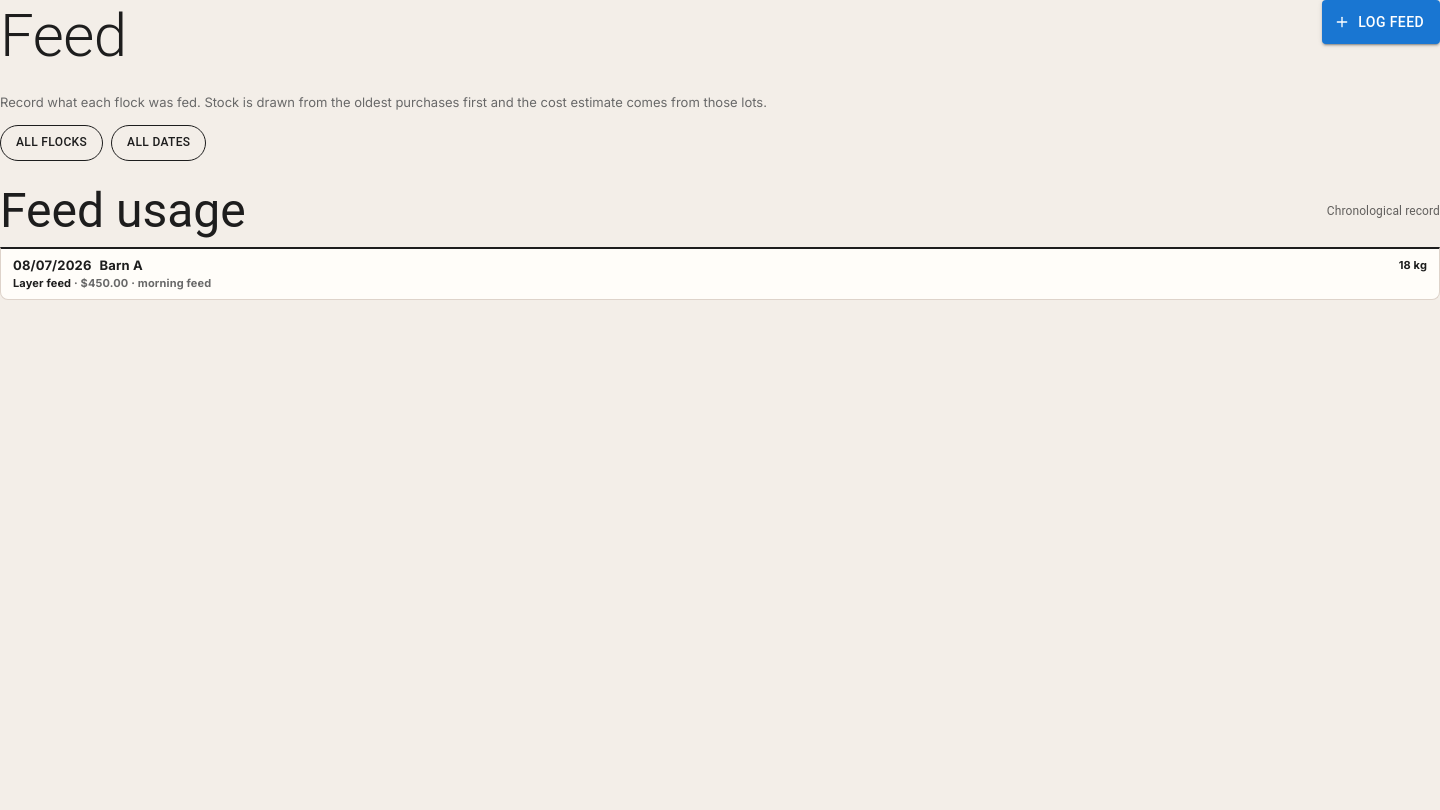
shows a phone feed row and details, and opens the log form
The image size is (1440, 810).
Click the button "08/07/2026 Barn A 18 kg Layer feed · $450.00 · morning feed".
click(52, 265)  # box [1,249,1439,299]
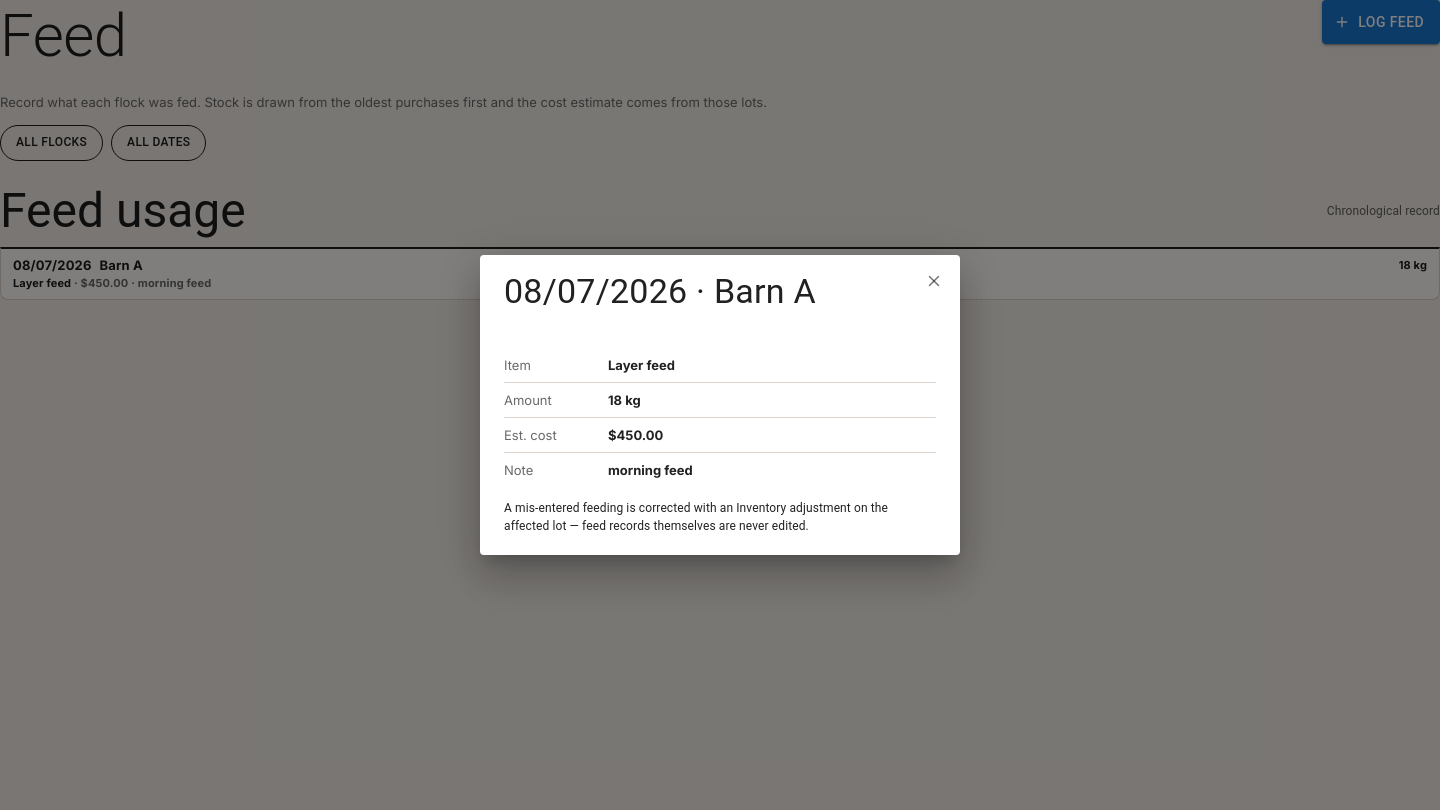
Result: the text "Item" is shown at [504,358,531,374]
Result: the text "Amount" is shown at [504,392,552,408]
Result: the text "Est. cost" is shown at [504,428,557,444]
Click the button named "close".
click(934, 280)  # box [920,266,948,294]
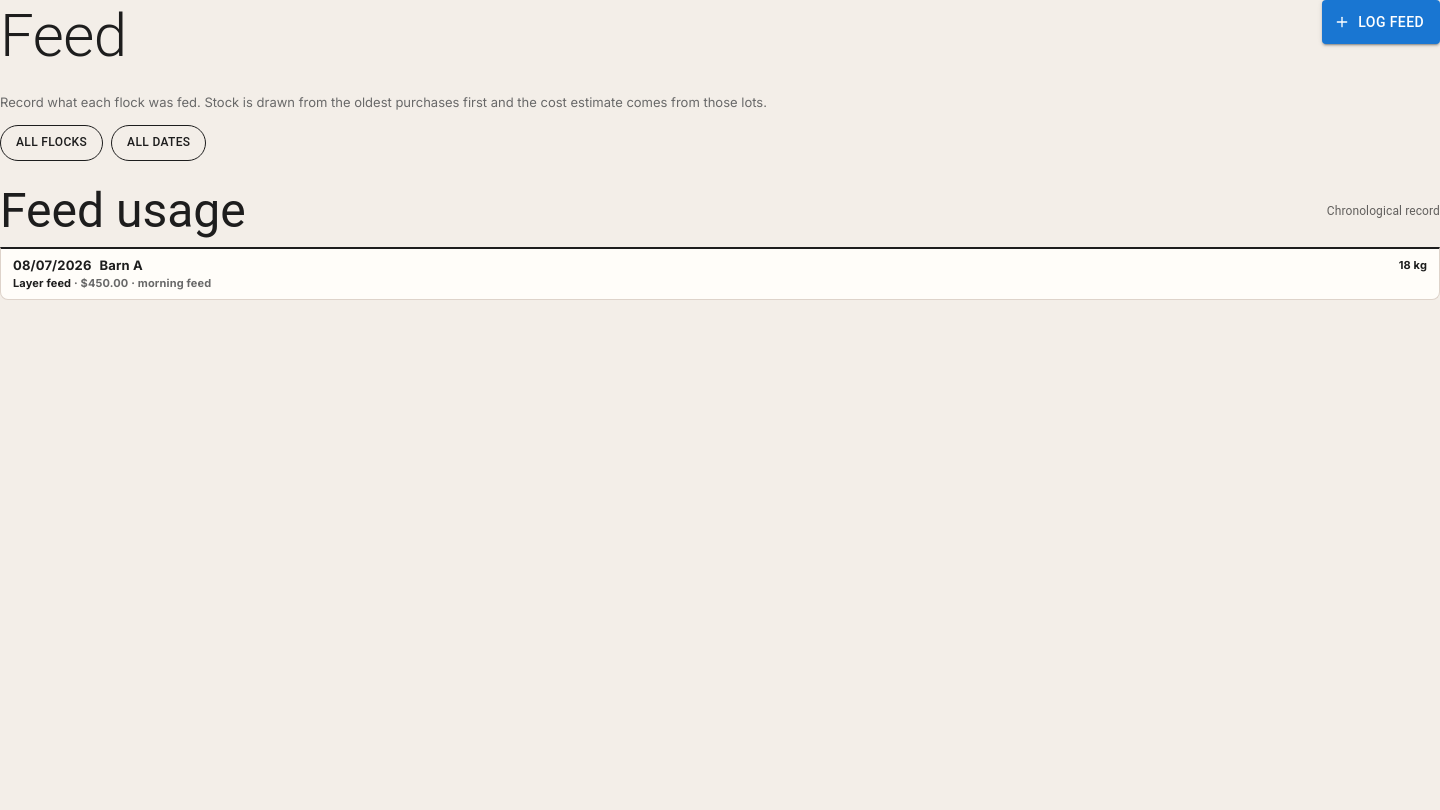
Result: the dialog is gone
Click the button "Log feed".
click(1381, 22)  # box [1322,0,1439,44]
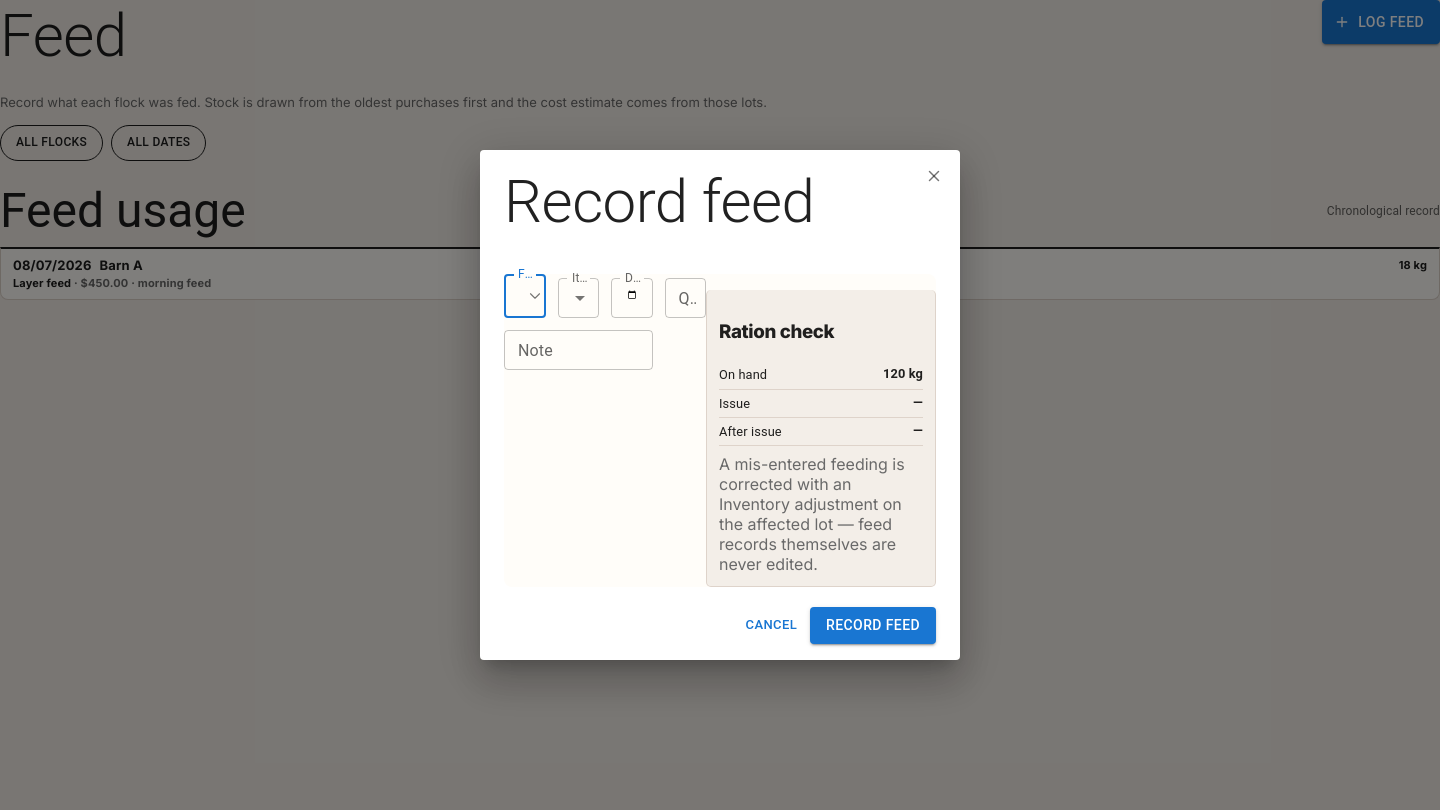
Result: the date field labelled "Date" is shown at [611,278,652,318]
